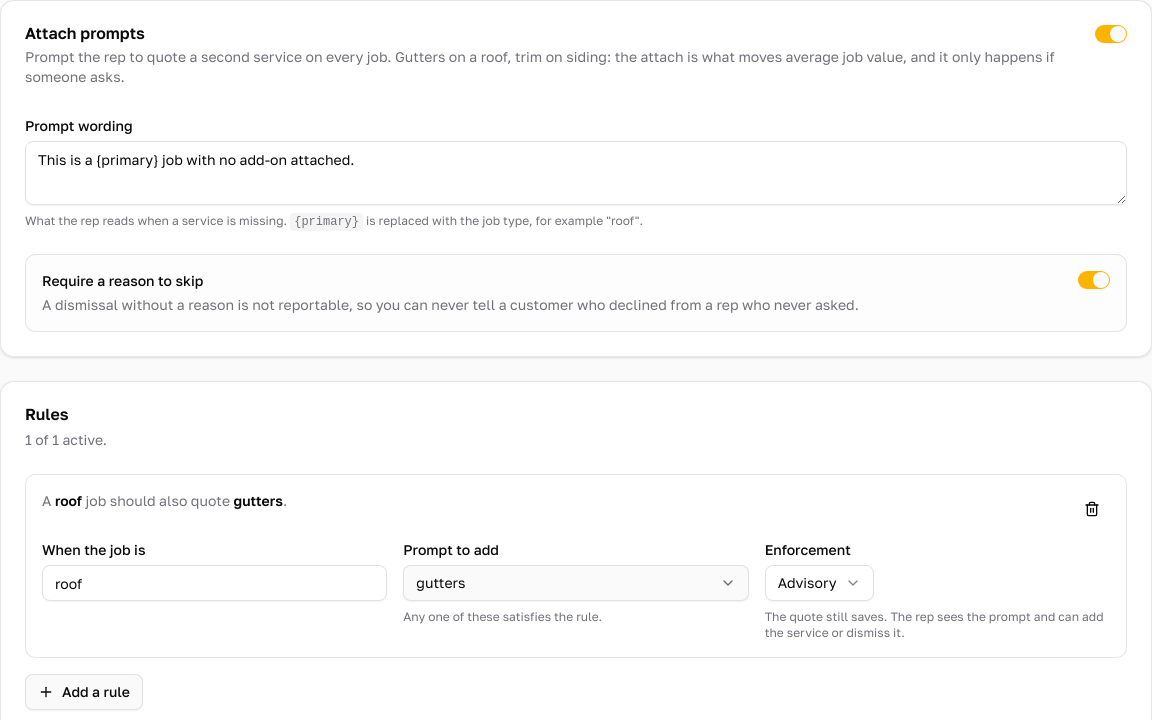
Test case: AttachRulesSettingsTab › offers suggestions from the workspace price book only
The image size is (1152, 720).
Click the button named "prompt to add" at (441, 582), box [403,565,749,601]
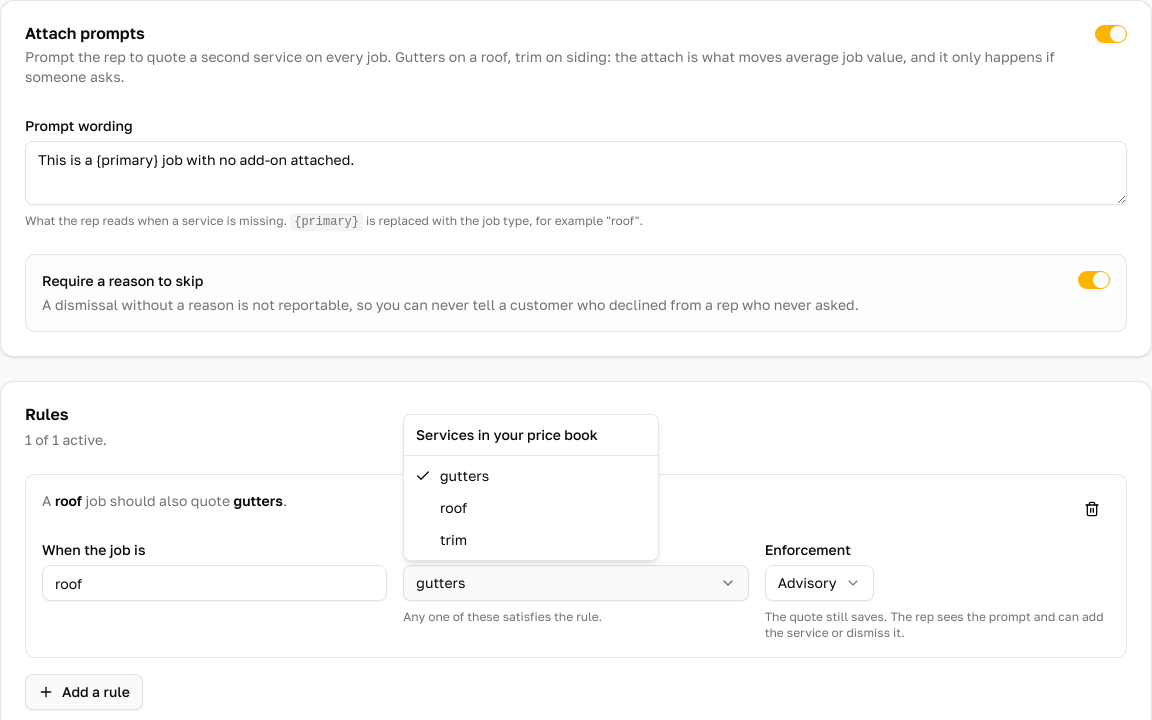
Now the menu item "trim" is shown, box [440,531,467,548]
Now the menu item "gutters" is shown, box [415,467,489,484]
